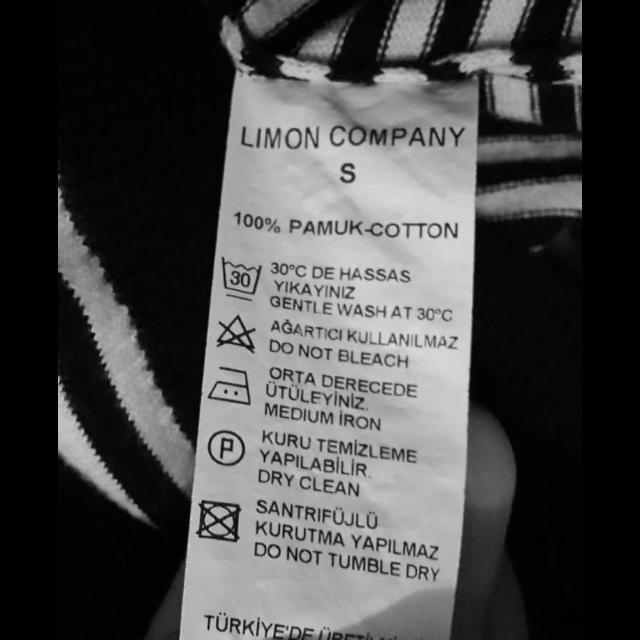30C: (217, 252, 265, 304)
DN_bleach: (215, 312, 262, 358)
DN_tumble_dry: (194, 496, 246, 546)
iron_medium: (204, 364, 256, 410)
normal_dry_clean_solvents: (206, 426, 248, 472)
